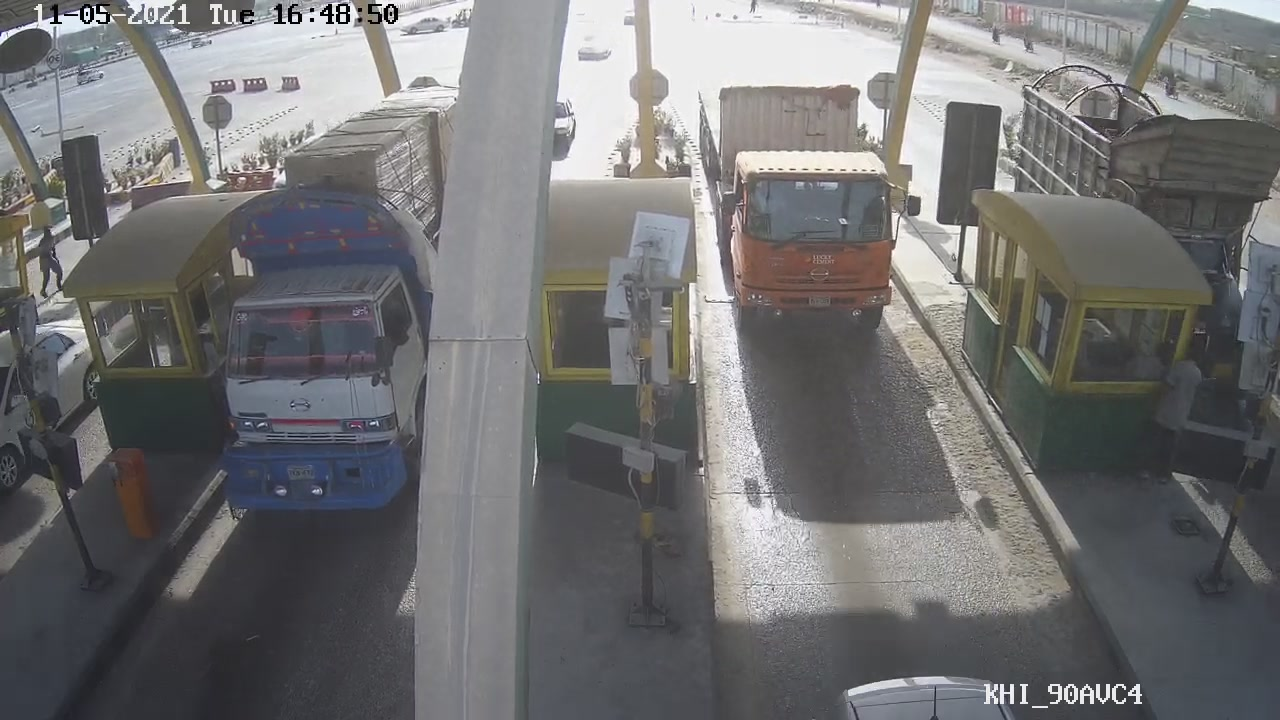F6: (697, 63, 905, 340)
